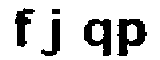f: (11, 6, 37, 46)
j: (39, 5, 66, 60)
p: (115, 12, 148, 60)
q: (81, 17, 114, 60)
